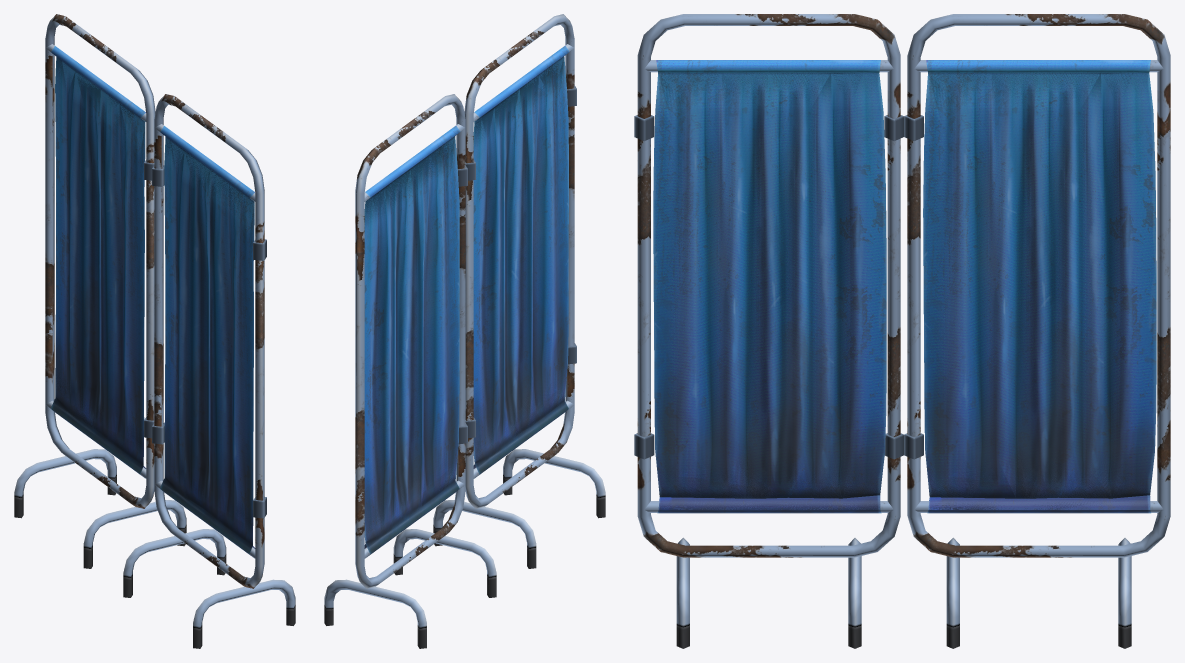
The model's file is hospitalScreen_2x.FBX.
3 renders of one model, left to right at view 1: azimuth 30°, elevation 25°; view 2: azimuth 150°, elevation 25°; view 3: azimuth 270°, elevation 25°, orthographic. The views are drawn at different scales.
Visible parts, largest first — view 1: hospitalScreen02, hospitalScreen01; view 2: hospitalScreen01, hospitalScreen02; view 3: hospitalScreen02, hospitalScreen01.
Part boxes in pixels (<box>): hospitalScreen02: <box>123,94,295,648</box>; hospitalScreen01: <box>14,14,186,568</box>; hospitalScreen01: <box>324,94,496,648</box>; hospitalScreen02: <box>433,14,605,568</box>; hospitalScreen02: <box>634,14,903,648</box>; hospitalScreen01: <box>904,14,1170,648</box>.
Size of the model in its own units: 44 by 200 by 161.
